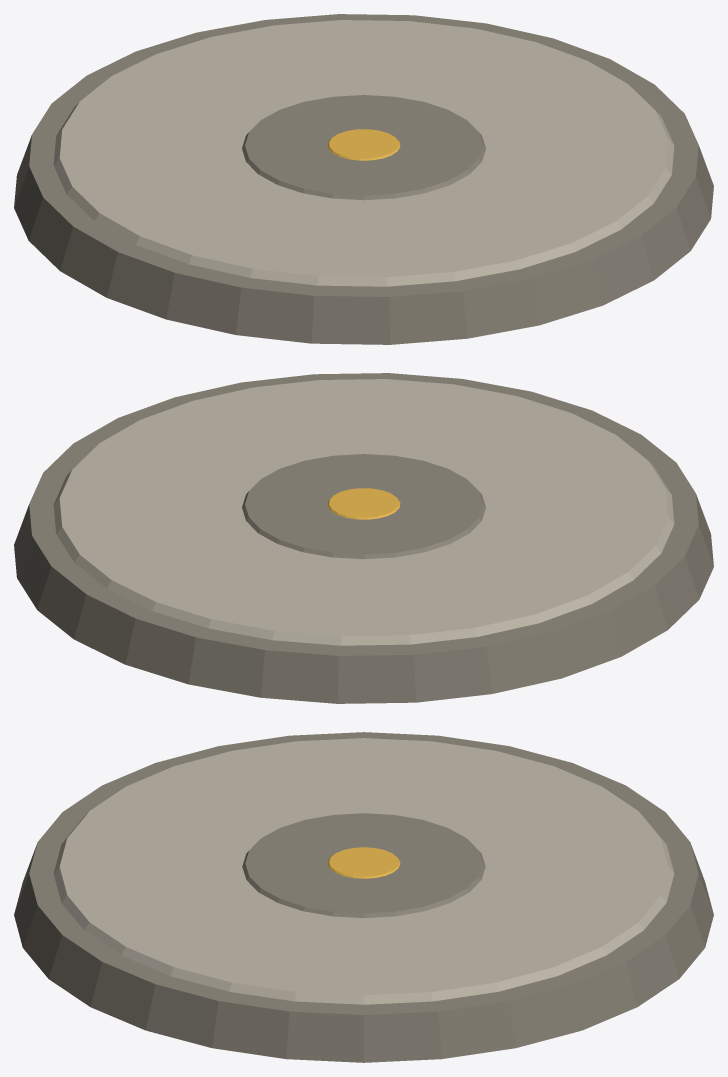
Rendered from shrine_platform.glb.
The picture shows the model from 3 angles, top to bottom: view 1: azimuth 30°, elevation 25°; view 2: azimuth 150°, elevation 25°; view 3: azimuth 270°, elevation 25°; orthographic projection.
Visible parts, largest first — view 1: Platform; view 2: Platform; view 3: Platform.
Part boxes in pixels (x1,y1,x2,y2): Platform: (14, 14, 713, 344); Platform: (14, 373, 713, 703); Platform: (14, 732, 713, 1062).
Size of the model in its own units: 23 by 1.92 by 23.
